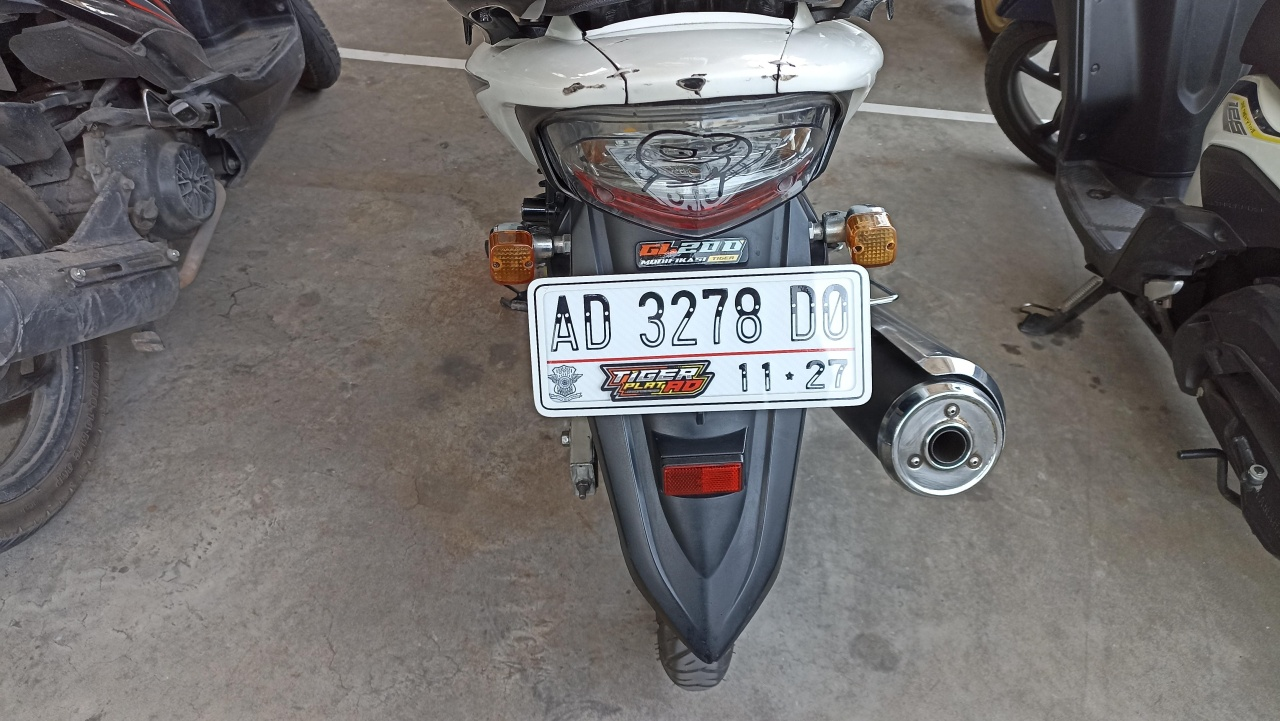plate: (526, 265, 872, 420)
